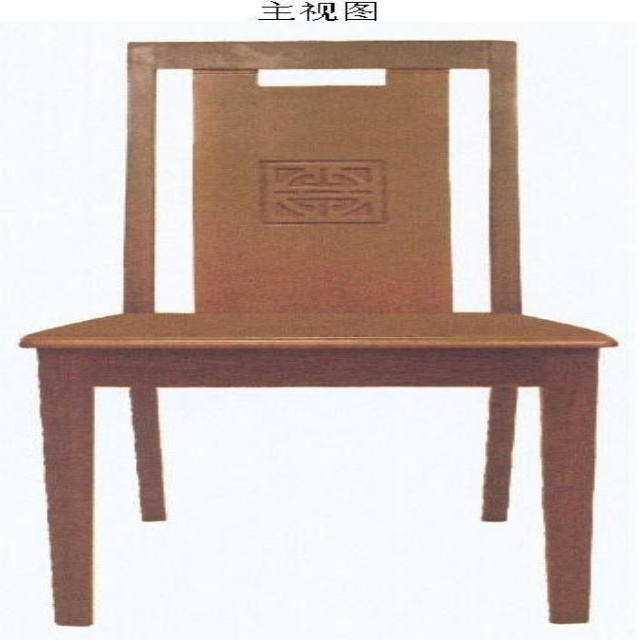obstacle: (22, 41, 615, 625)
